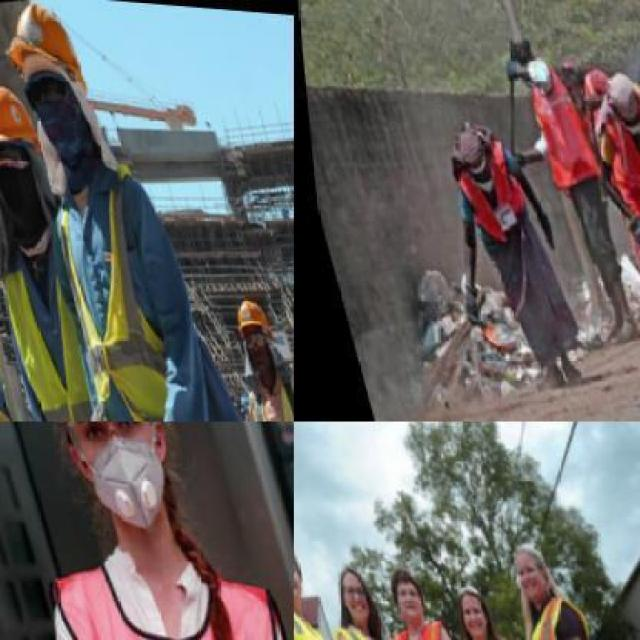Vest: (34, 148, 226, 420), (35, 523, 292, 639), (0, 225, 123, 420), (517, 66, 601, 188), (440, 150, 532, 244), (500, 578, 618, 638), (592, 97, 638, 211), (231, 354, 292, 420), (374, 608, 471, 638)
